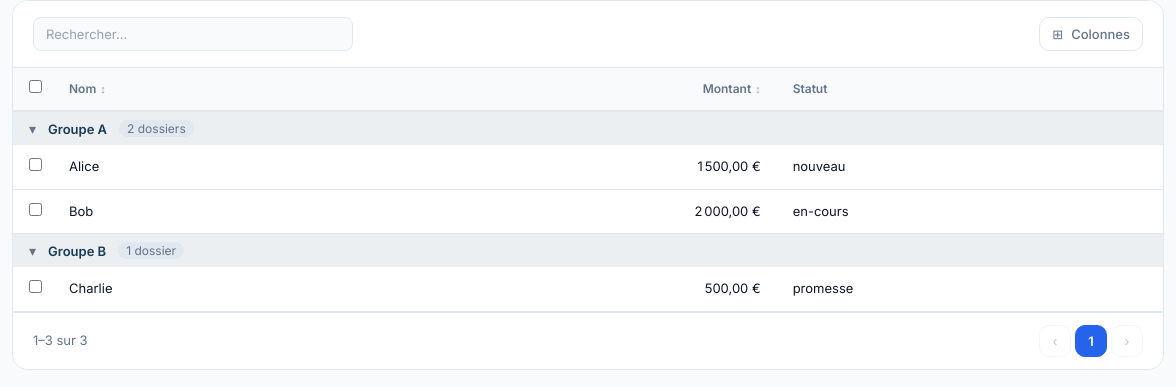
Test case: DataGridComponent › grouping › should collapse group rows when group header is clicked
Step 1. Click the button with class "grid__group-btn" showing "▾ Groupe A 2 dossiers" → (78, 128), box [13,112,1163,145]
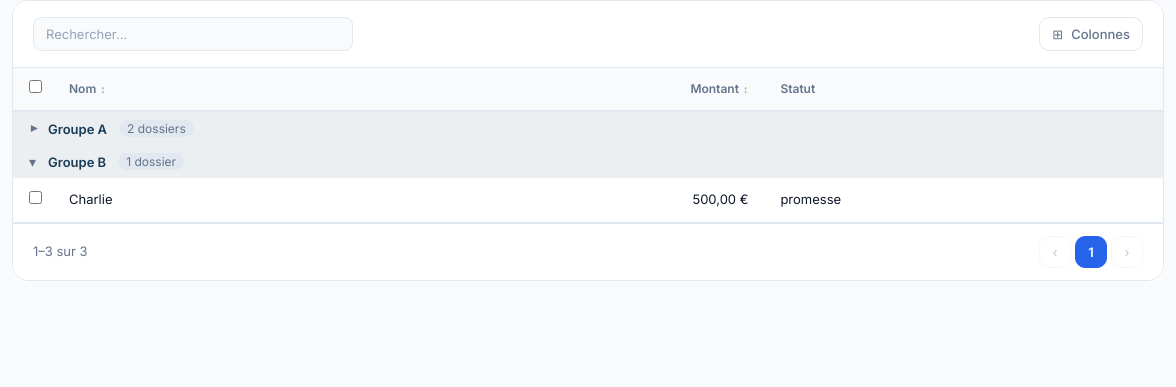
Expected: the number of rows with class "grid__row" is 1, [13,178,1163,222]
